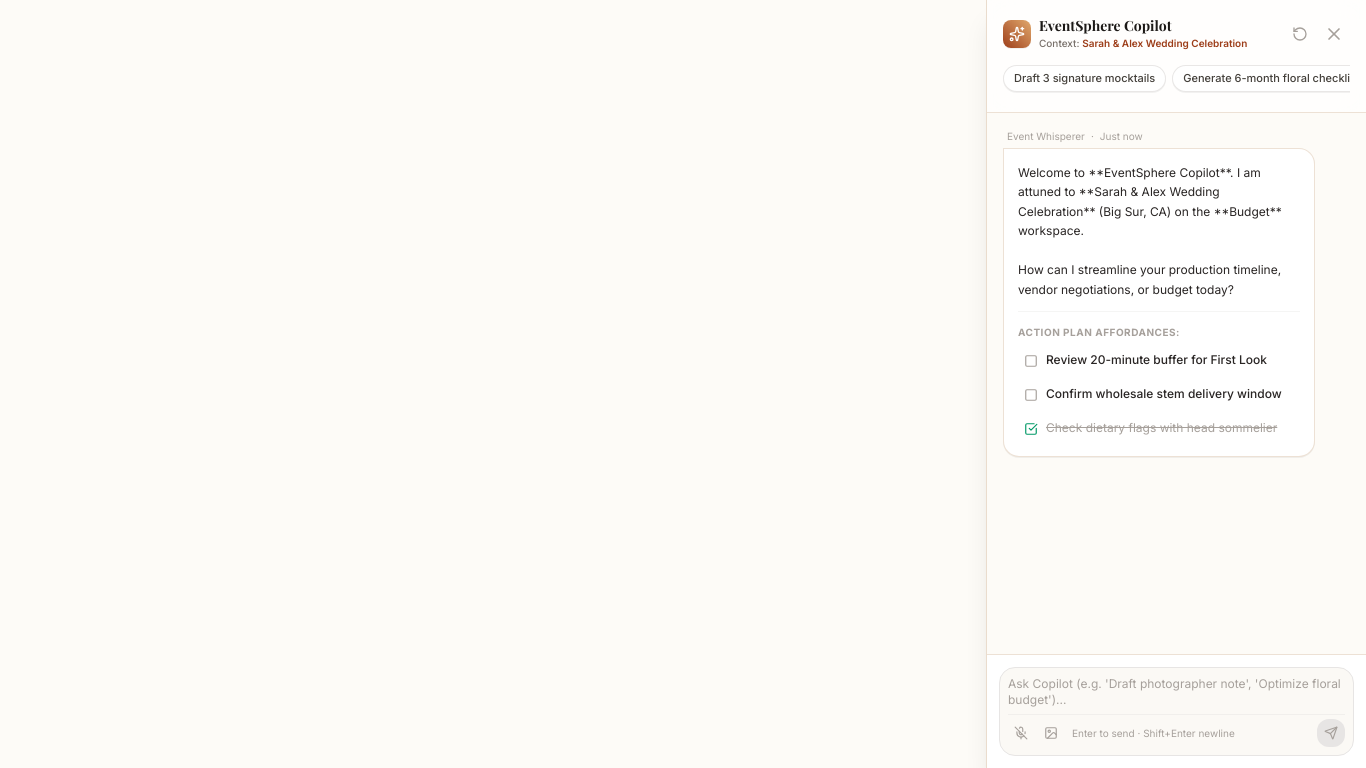
Scenario: CopilotDrawer Component Suite › validates input submission, optimistic message addition, and simulated AI response
Note: Type query
Type "How can I optimize the floral budget?" into the text box with test id "copilot-input" at {"x": 1176, "y": 692}, box [1008,676,1345,708]
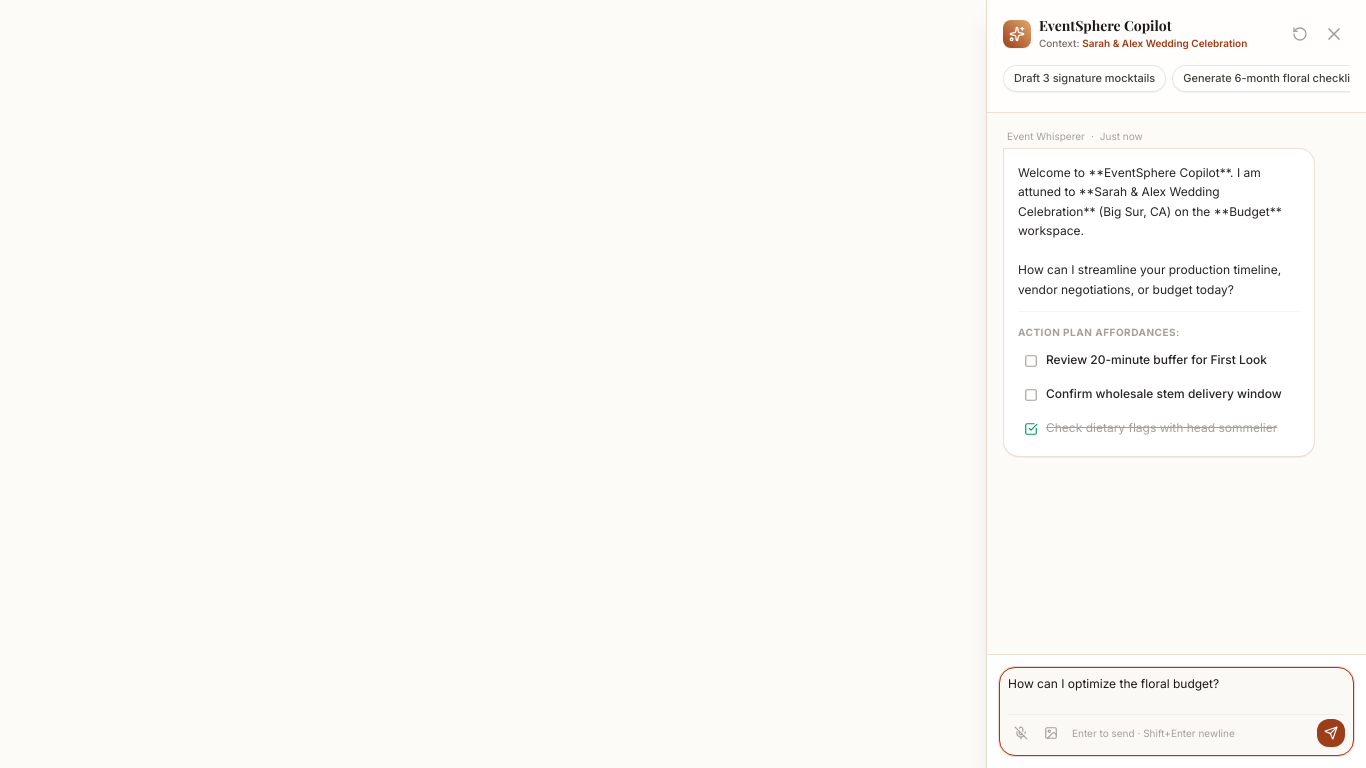
Note: Click send
Click the button with test id "copilot-send-btn" at {"x": 1331, "y": 733}, box [1317,719,1345,747]
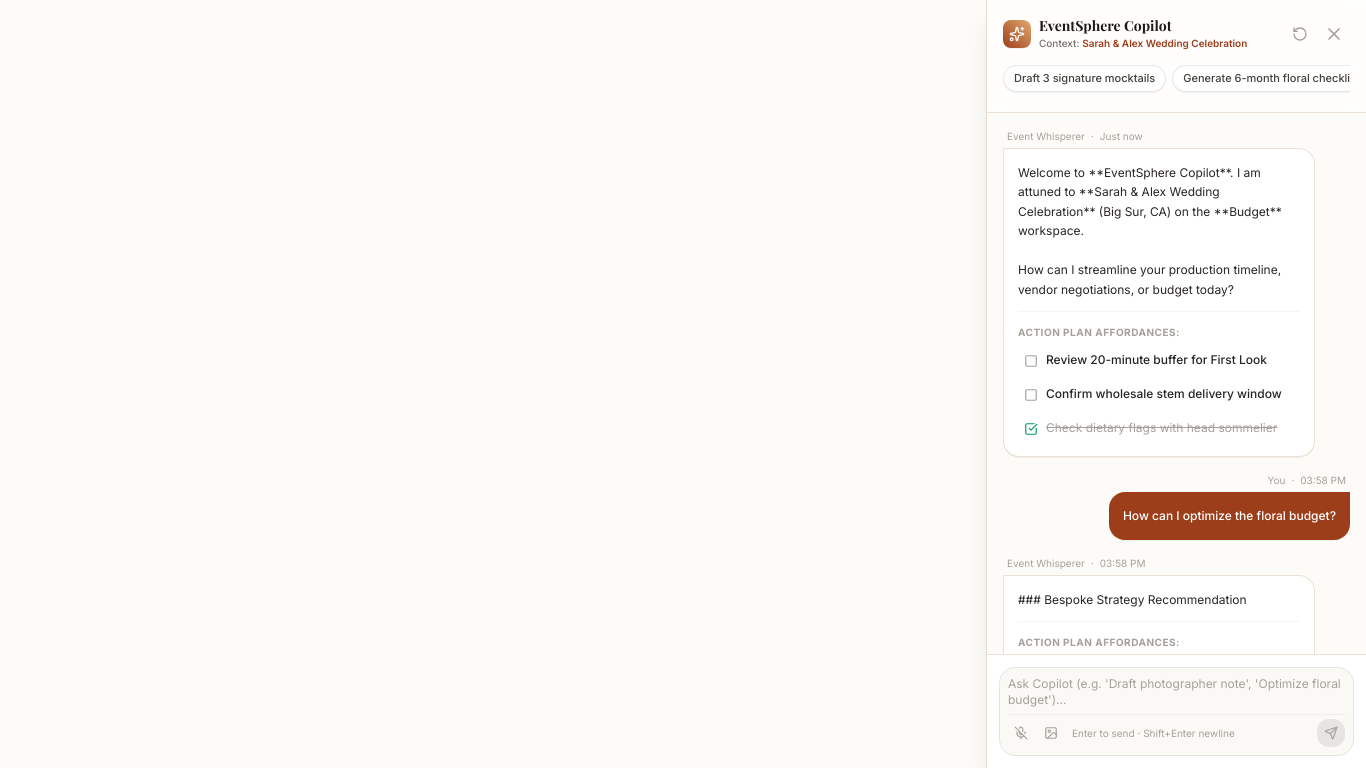
Result: the text "How can I optimize the floral budget?" is shown at [1123,506,1336,526]
Result: the text box with test id "copilot-input" is empty at [1008,676,1345,708]
Result: the text "### Bespoke Strategy Recommendation" is shown at [1018,592,1247,607]
